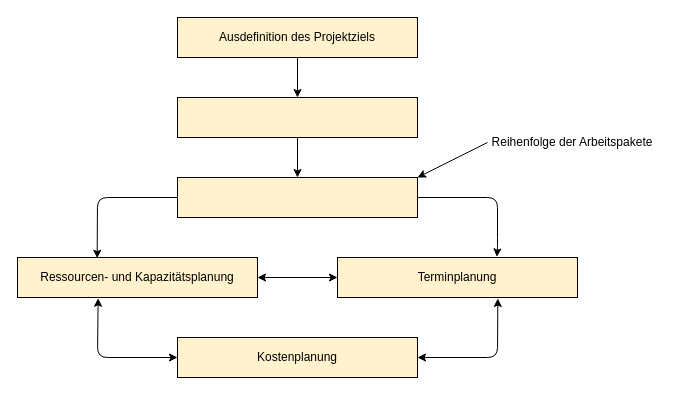
Some shapes in this 675 by 395 pixel diagram are drawn without their labels. The centre of each missing label's shape, as x and y in pixels:
Ablaufplanung: the point at 297,197
Projektstrukturplan: the point at 297,117
